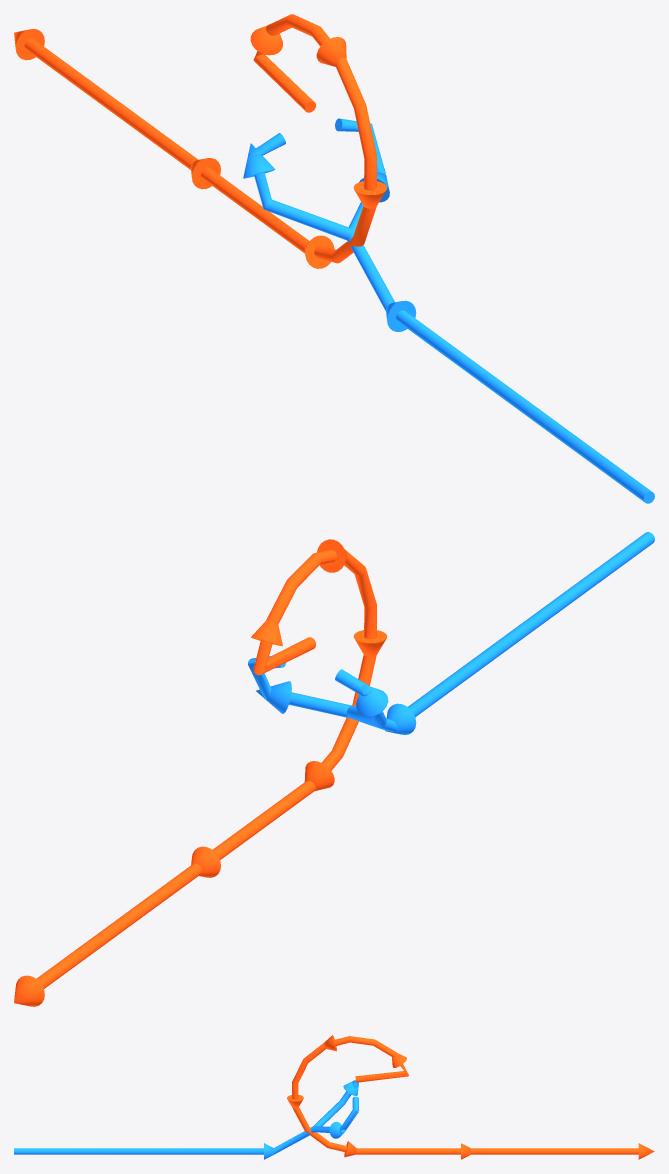
The model's file is horizontal_split_case_pump_flow.glb.
The picture shows the model from 3 angles, top to bottom: view 1: azimuth 30°, elevation 25°; view 2: azimuth 150°, elevation 25°; view 3: azimuth 270°, elevation 25°; orthographic projection. The views are drawn at different scales.
Parts seen in each view (by area): view 1: flow_discharge, flow_suction, flow_suction2; view 2: flow_discharge, flow_suction, flow_suction2; view 3: flow_discharge, flow_suction, flow_suction2.
Boxes of the visible parts, x1,y1,x2,y2 form: flow_discharge: (14, 14, 387, 268); flow_suction: (335, 118, 654, 503); flow_suction2: (243, 133, 352, 240); flow_discharge: (14, 539, 387, 1006); flow_suction: (248, 532, 654, 734); flow_suction2: (335, 669, 388, 727); flow_discharge: (287, 1035, 654, 1159); flow_suction: (14, 1096, 358, 1159); flow_suction2: (313, 1080, 358, 1126).
Bounding box in the file's own units: 0.2888 × 0.4981 × 2.34.
